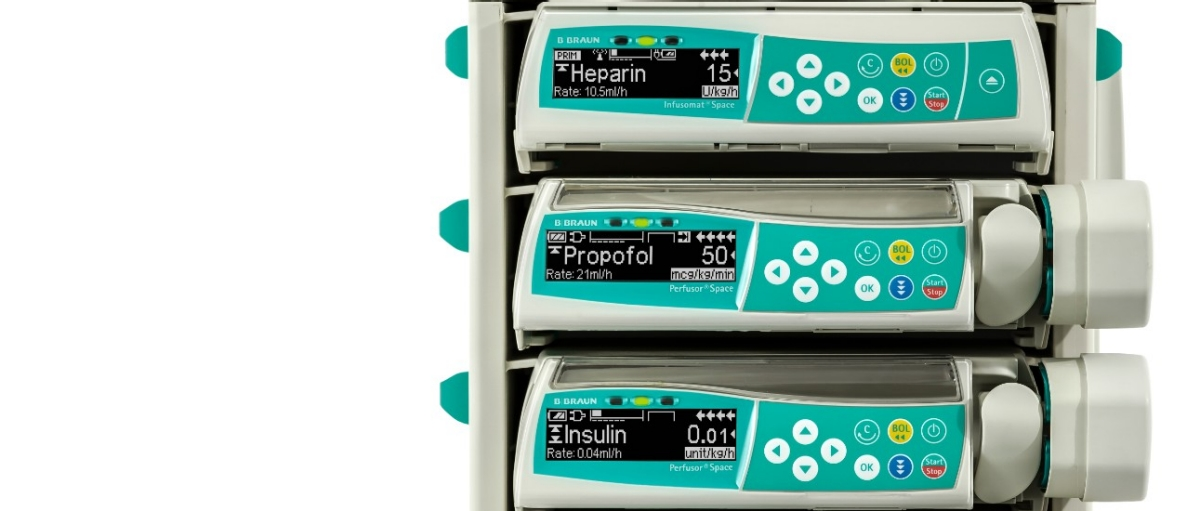BBraun Infusomat Space: (510, 172, 1051, 352)
